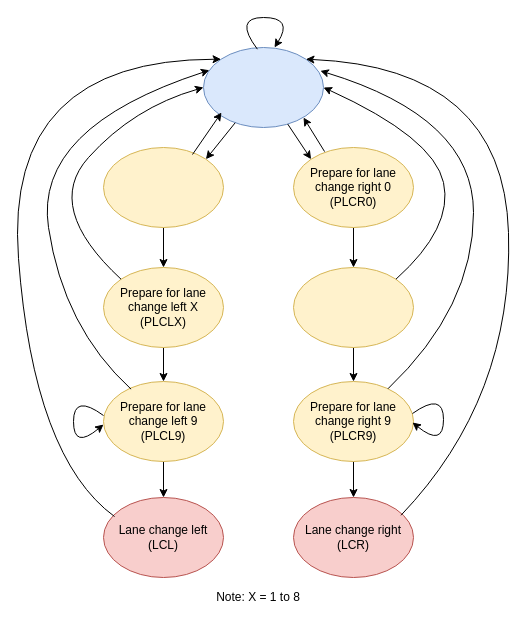
The diagram is 527 pixels wide and 625 high, and some of its shapes have lost their labels. Here are the shapes that lost their labels. From the top down, the centre of each, then its label:
the point at 263,87: Keep lane (KL)
the point at 163,187: Prepare for lane change left 0 (PLCL0)
the point at 353,307: Prepare for lane change right X (PLCRX)
